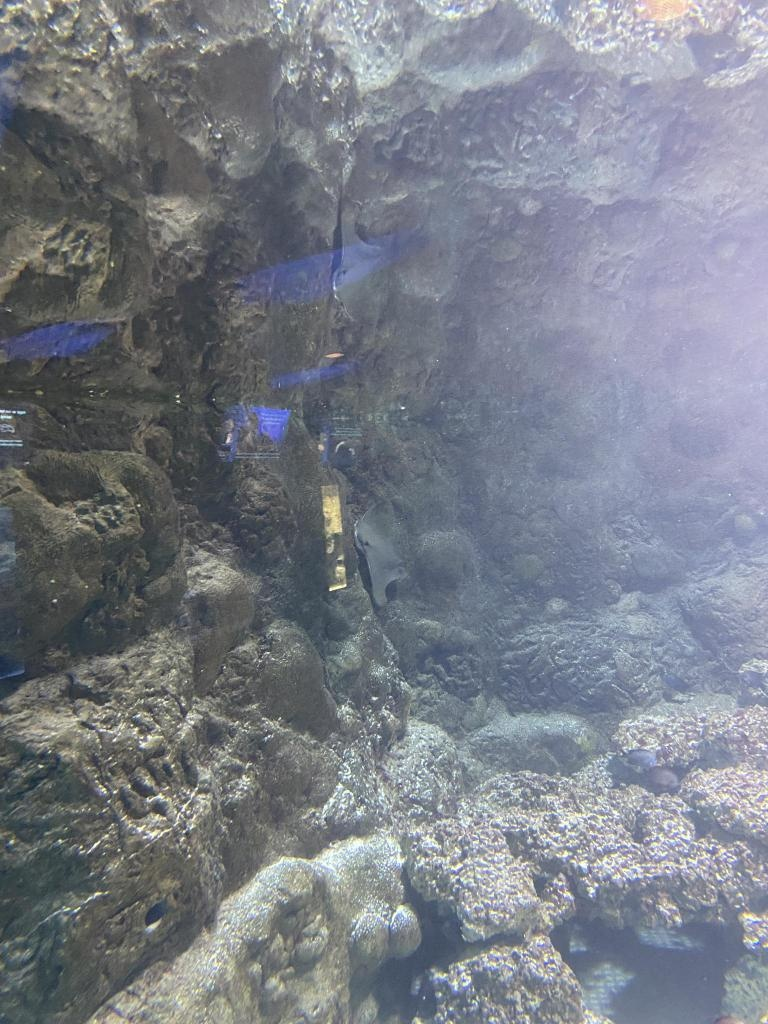stingray: (354, 500, 408, 608)
